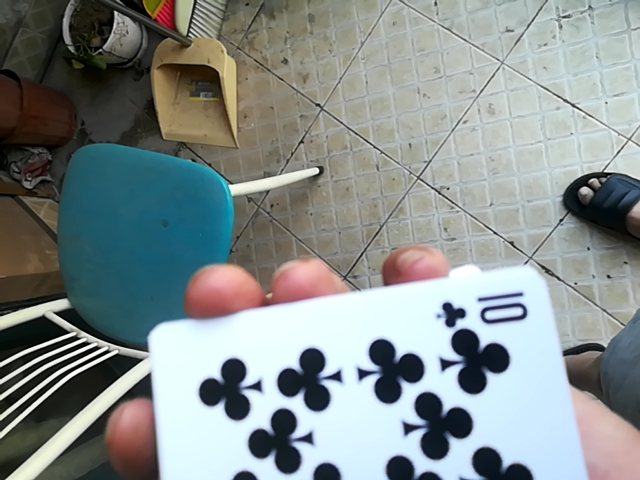mh 10: (130, 264, 614, 480)
